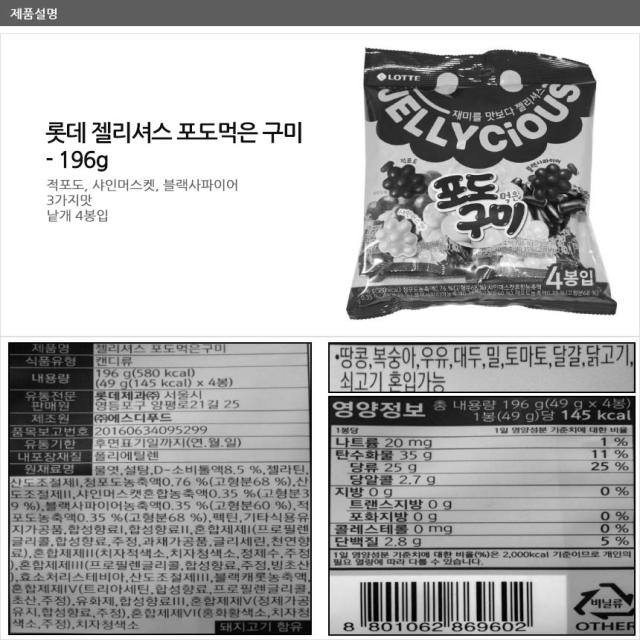Nutrition Label: (332, 405, 640, 570)
